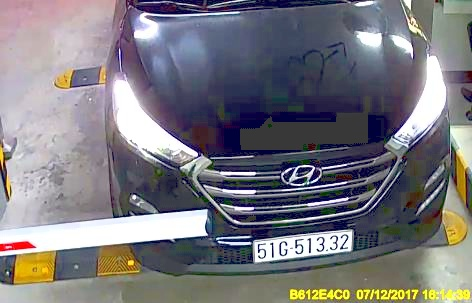plate: (251, 231, 354, 264)
